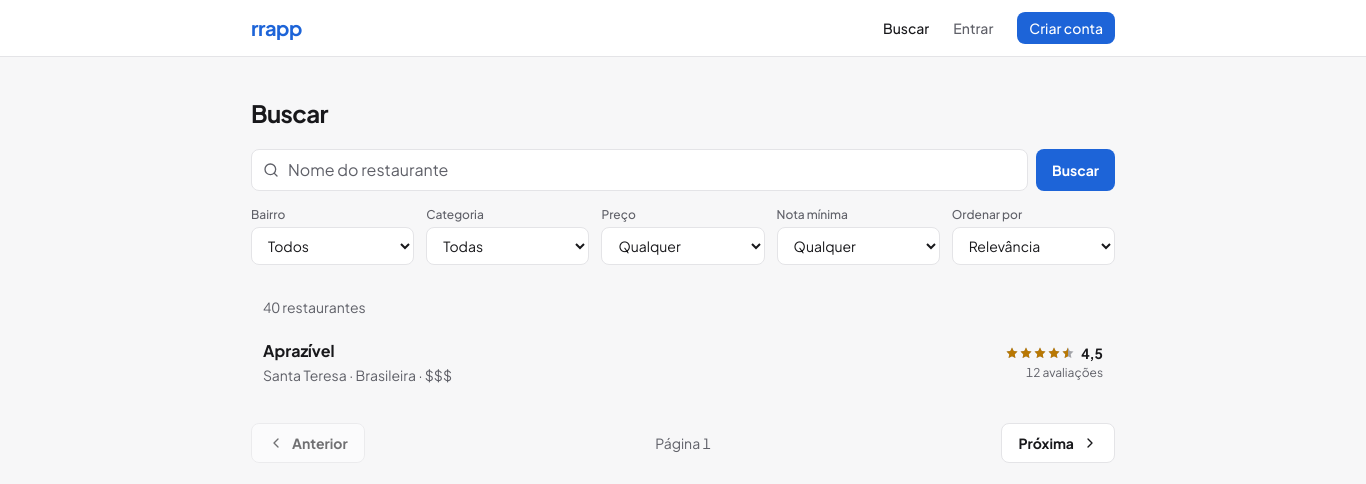
Test: paginação pede a próxima página
Click the button "Próxima": (1058, 443) [1001,423,1115,463]
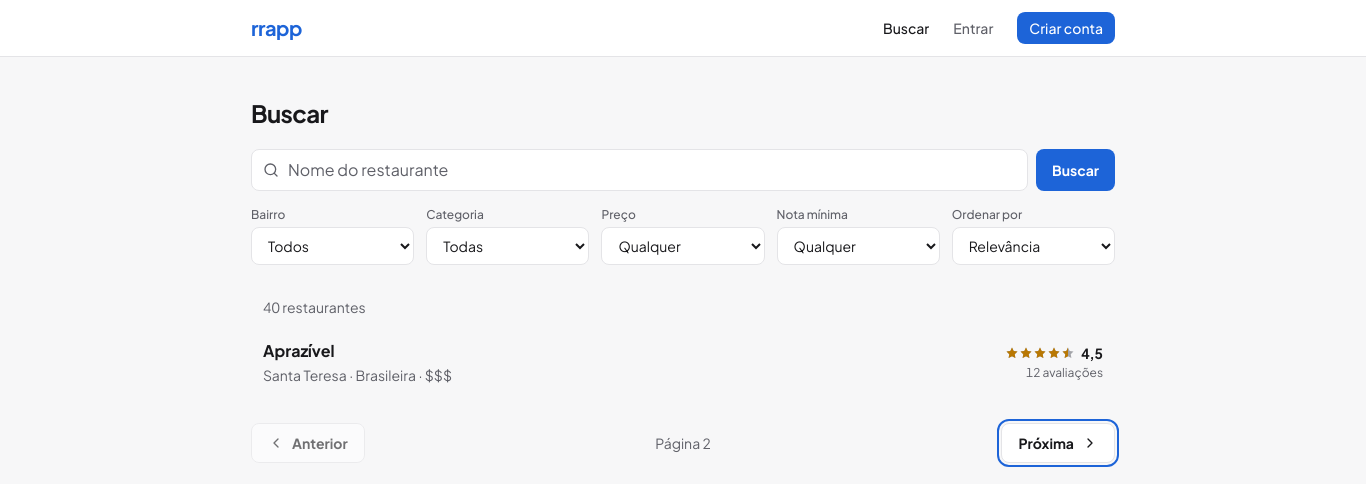
Now the text "Página 2" is shown, box [655,433,711,453]
